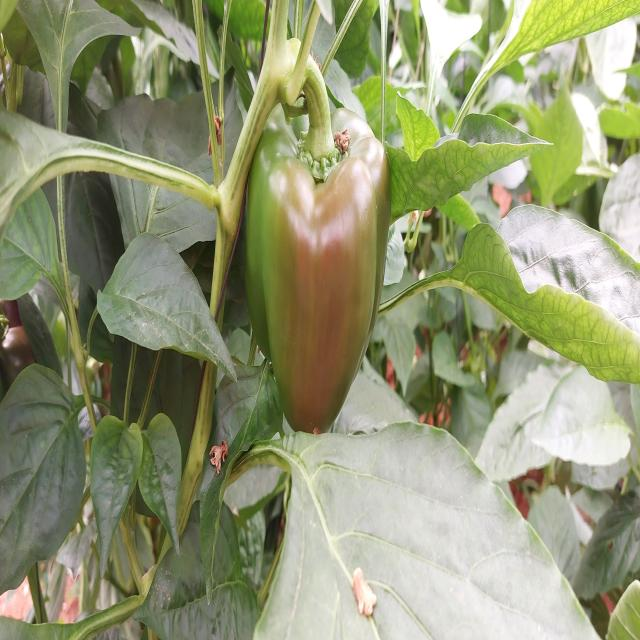BrownishRed--Can-be-Harvested: (248, 111, 392, 442)
